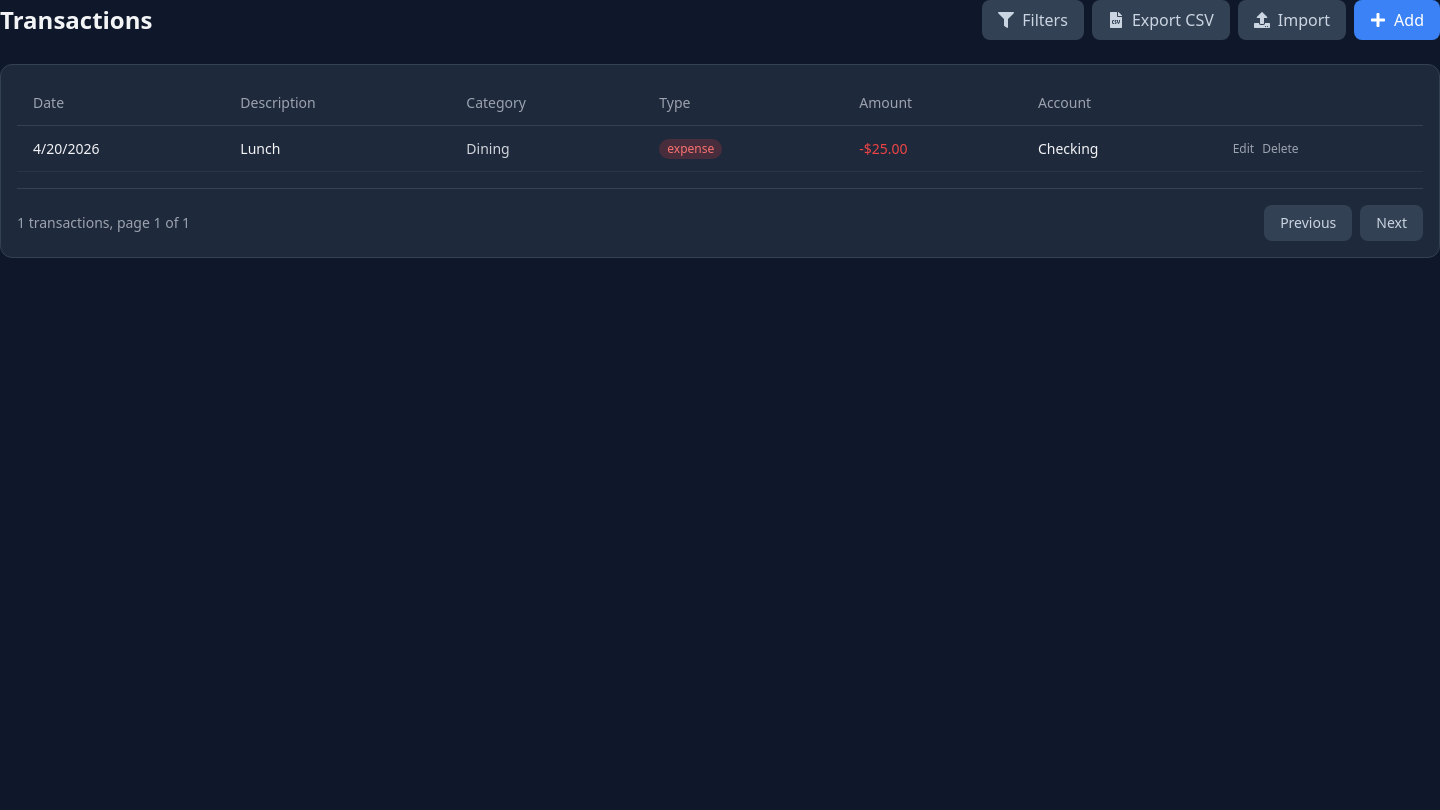
it: Transactions › opens add transaction modal
Click the button "Add" at (1397, 20), box [1354,0,1439,40]
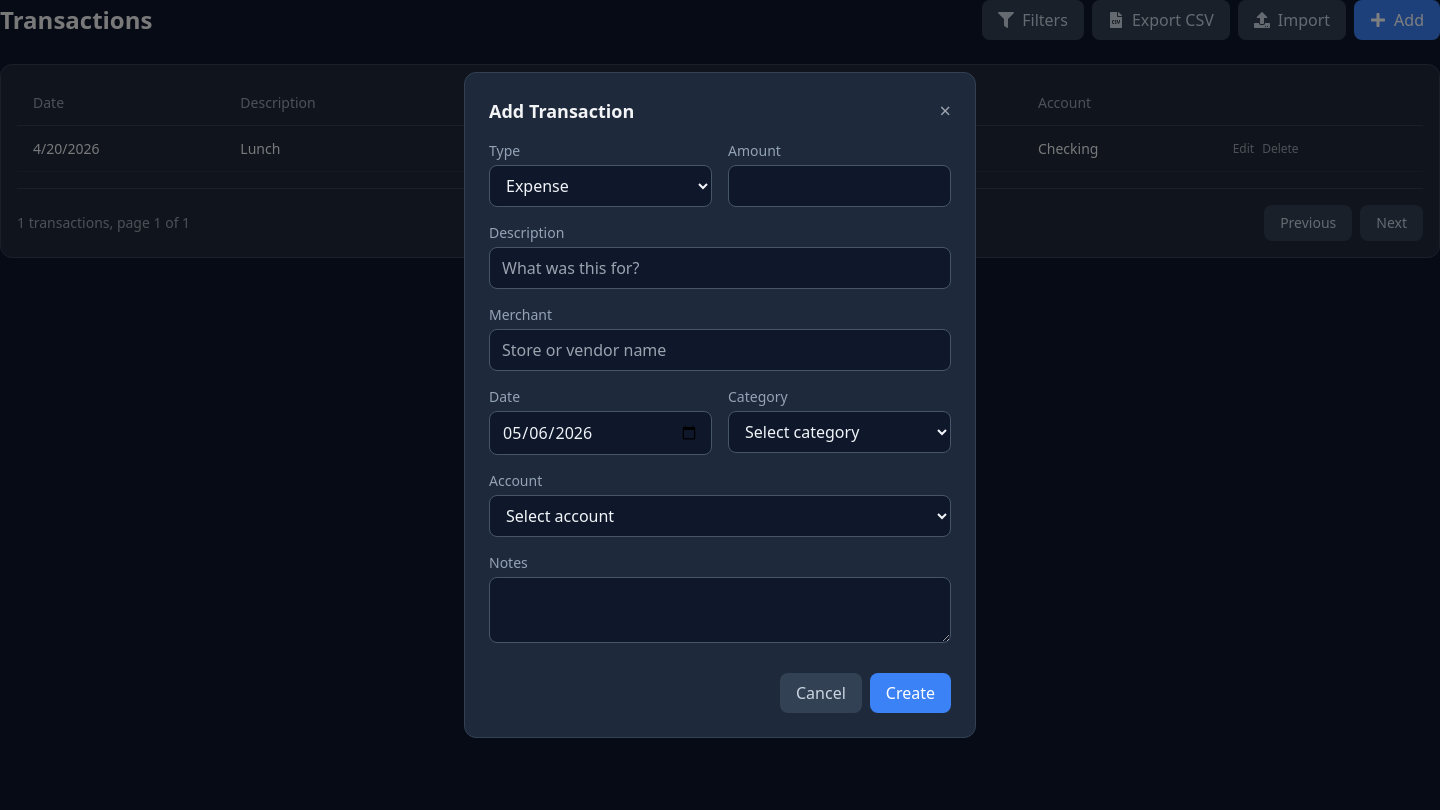
Now the heading "Add Transaction" is shown, box [489,97,634,125]
Now the button "Create" is shown, box [870,673,951,713]
